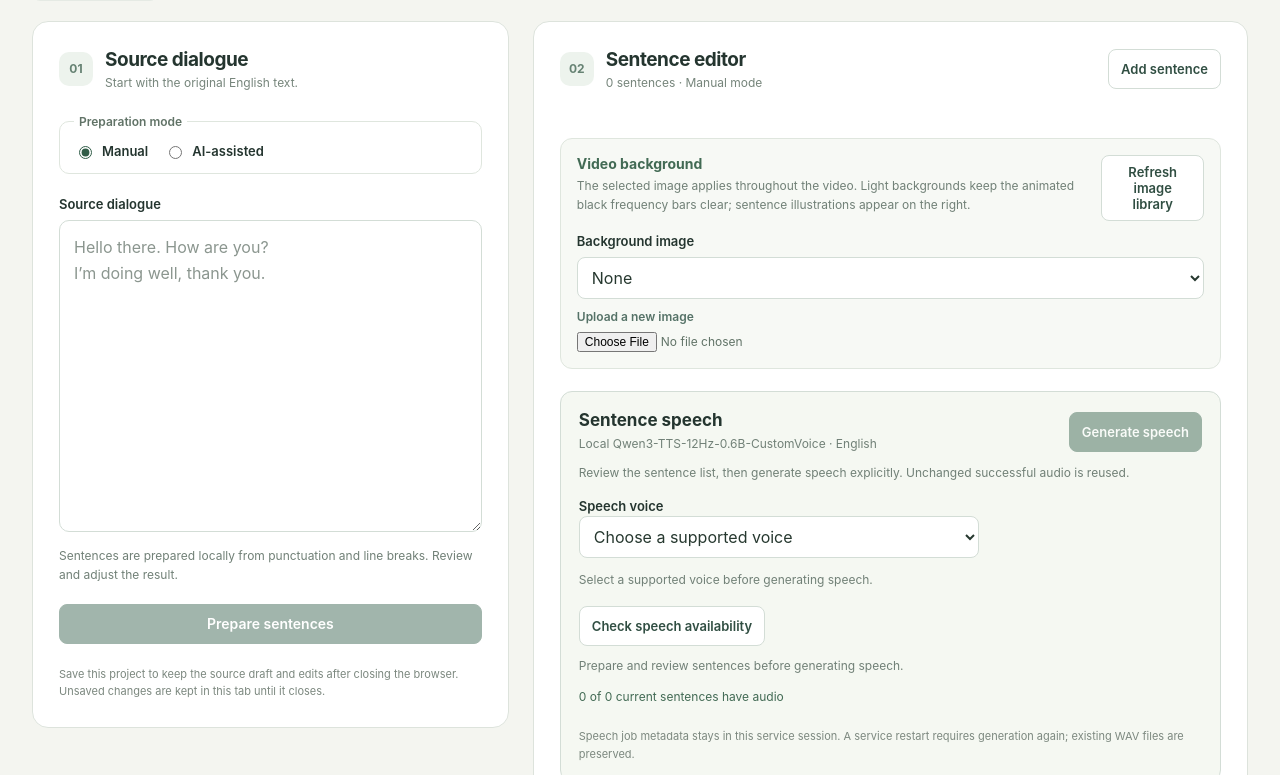
sentence speech UI › requires an explicit voice choice when the backend has no default
This screenshot has width=1280, height=775.
(page scrolled)
Type "Hello." into the text box labelled "Source dialogue" at (270, 376), box [59, 220, 482, 532]
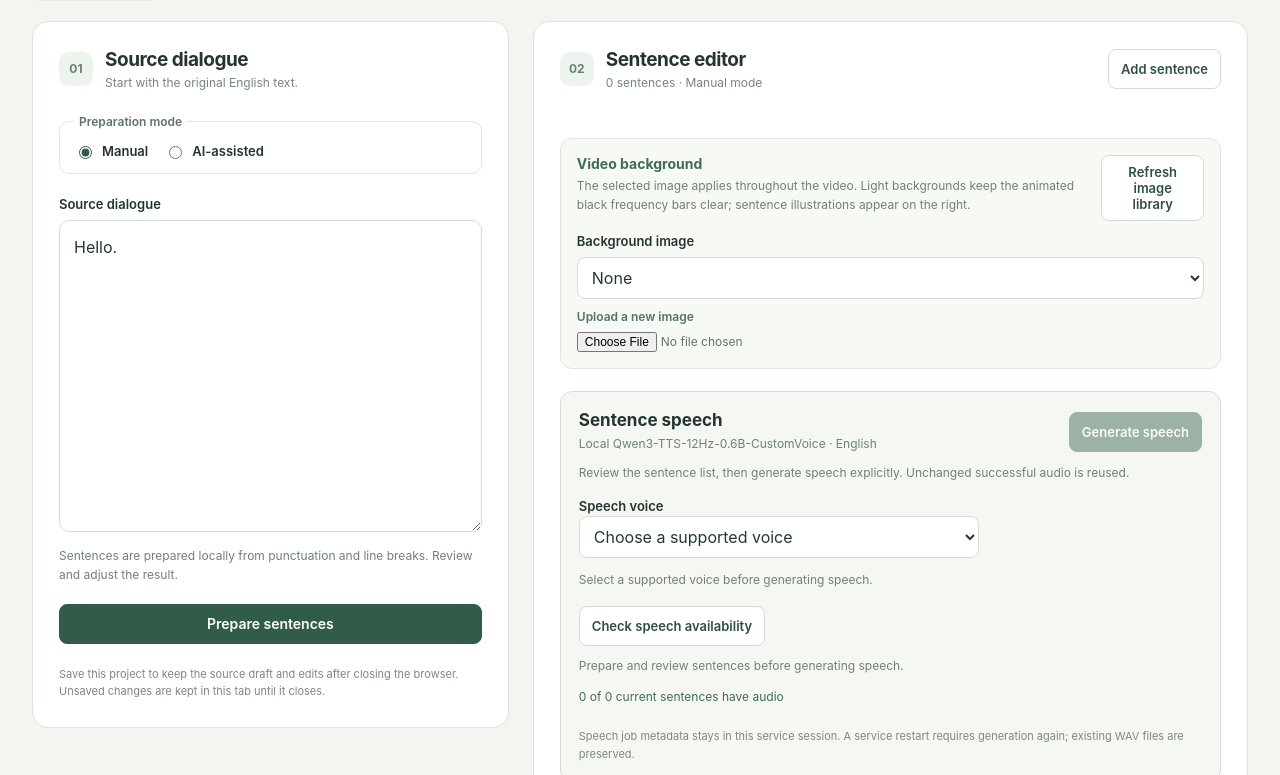
Click the button "Prepare sentences" at (270, 624), box [59, 604, 482, 644]
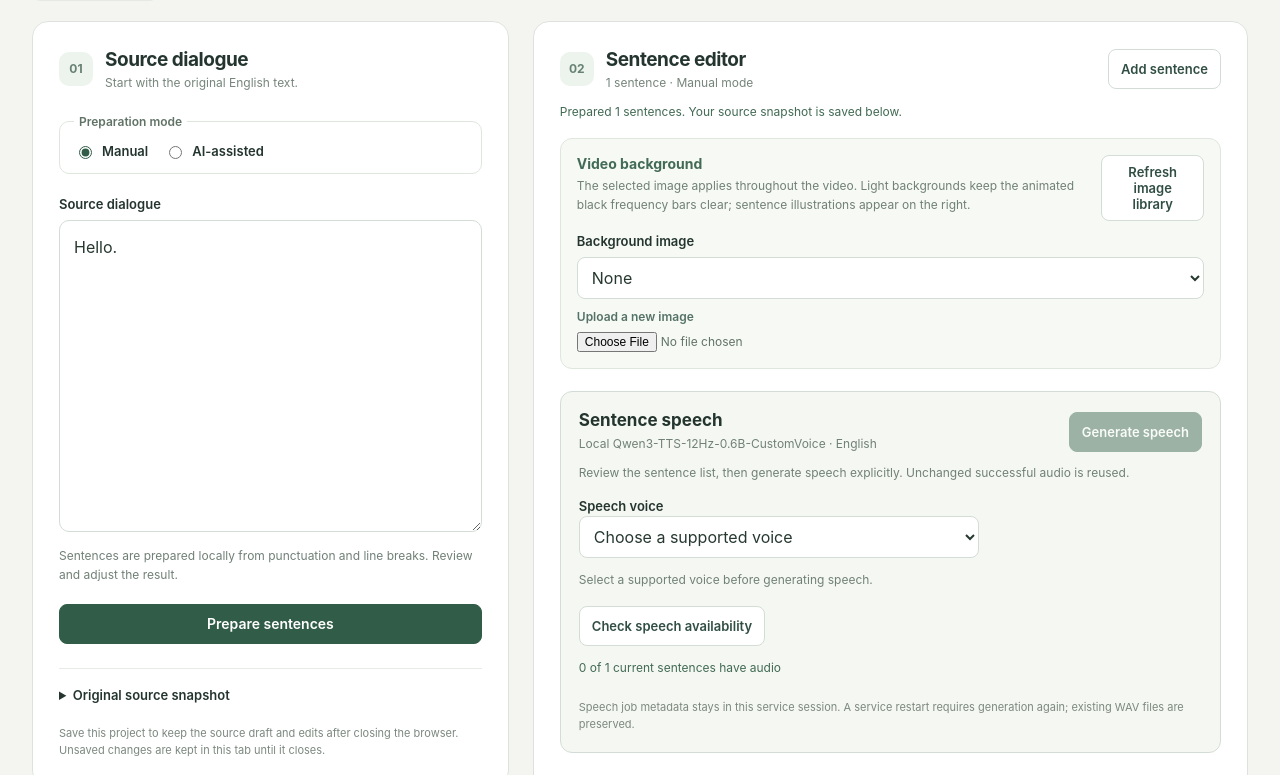
Expected: the button "Generate speech" is disabled, [1069, 412, 1202, 452]
Select "Alternative voice" in the dropdown labelled "Speech voice" at (779, 537), box [579, 516, 979, 558]
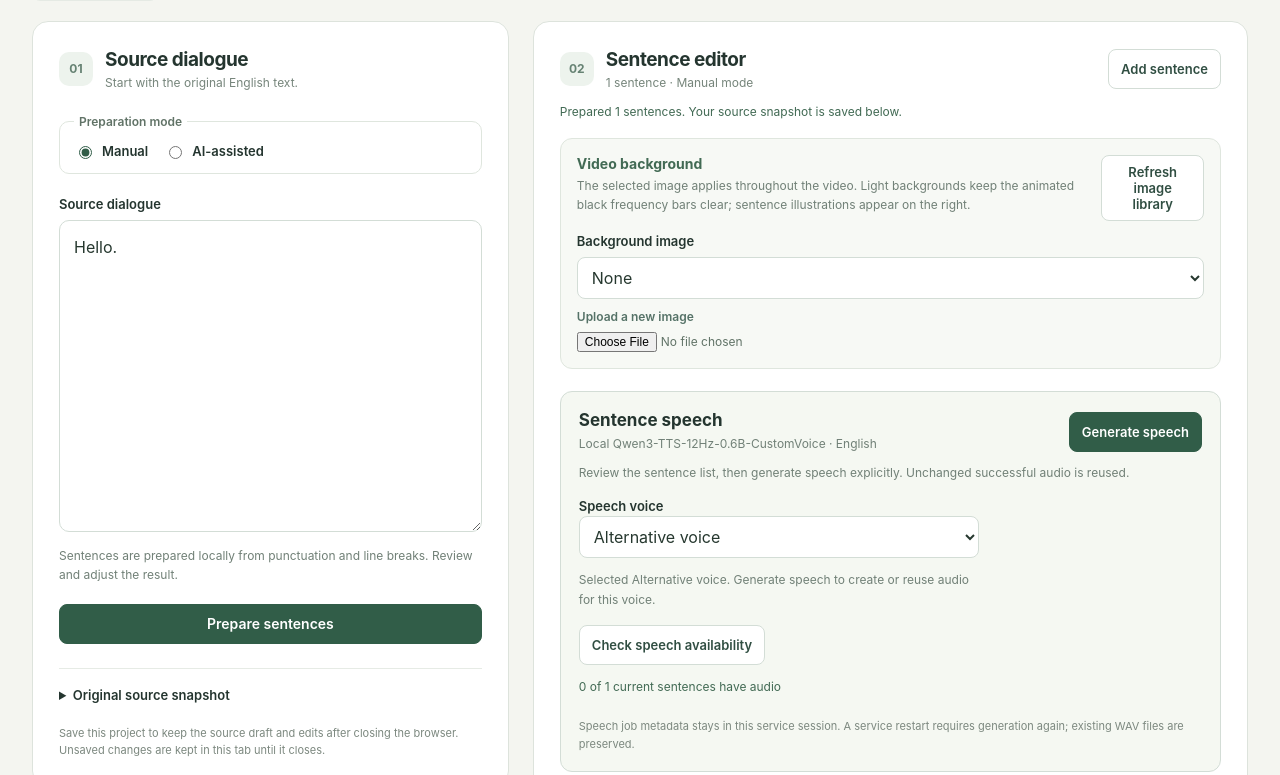
Expected: the button "Generate speech" is enabled, [1069, 412, 1202, 452]
